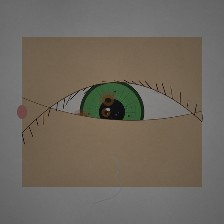foreign_body_visible: (92, 87, 125, 113)
